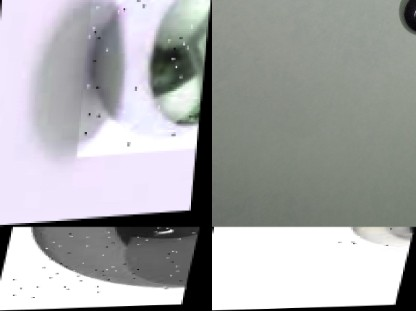ironball: (77, 0, 212, 159), (8, 227, 201, 299), (334, 227, 415, 251), (132, 0, 211, 1)
